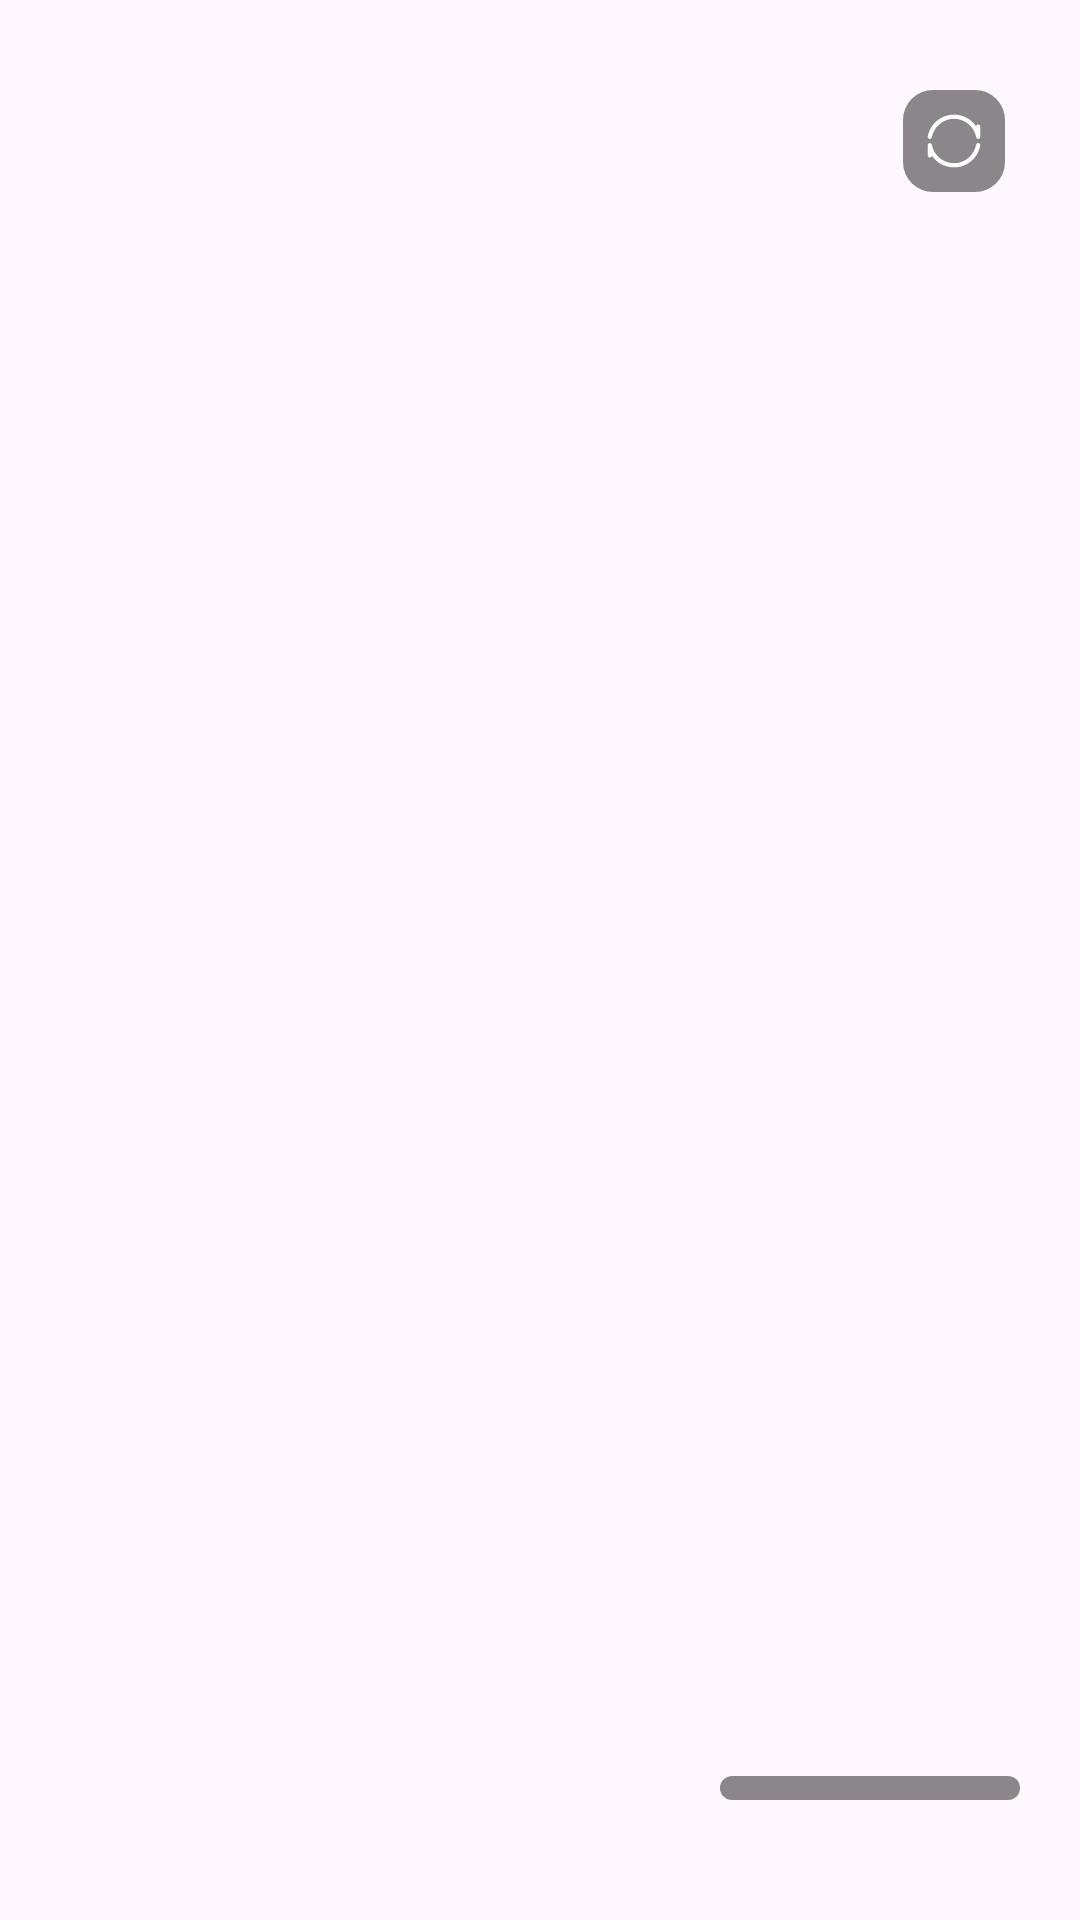

Icons on this 1080px×1920px Android screen, each with the point to tap as (x=x, y=y):
refresh: (x=954, y=141)
